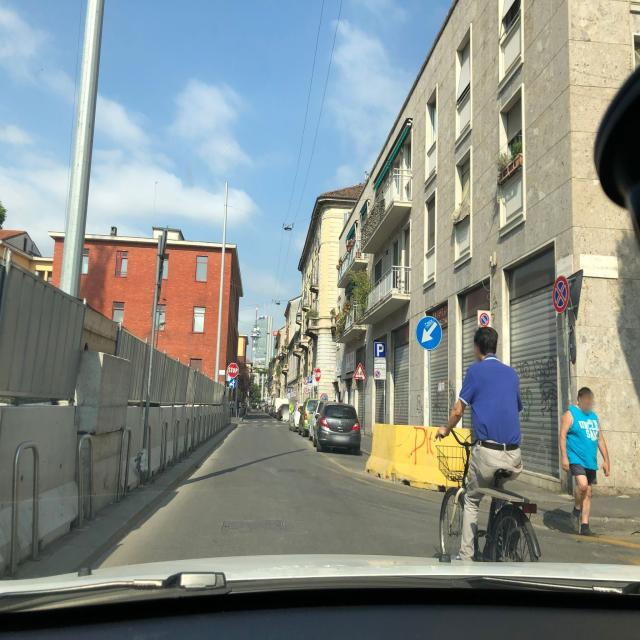forb_stopping: (479, 313, 489, 327)
forb_waiting: (553, 279, 567, 309)
